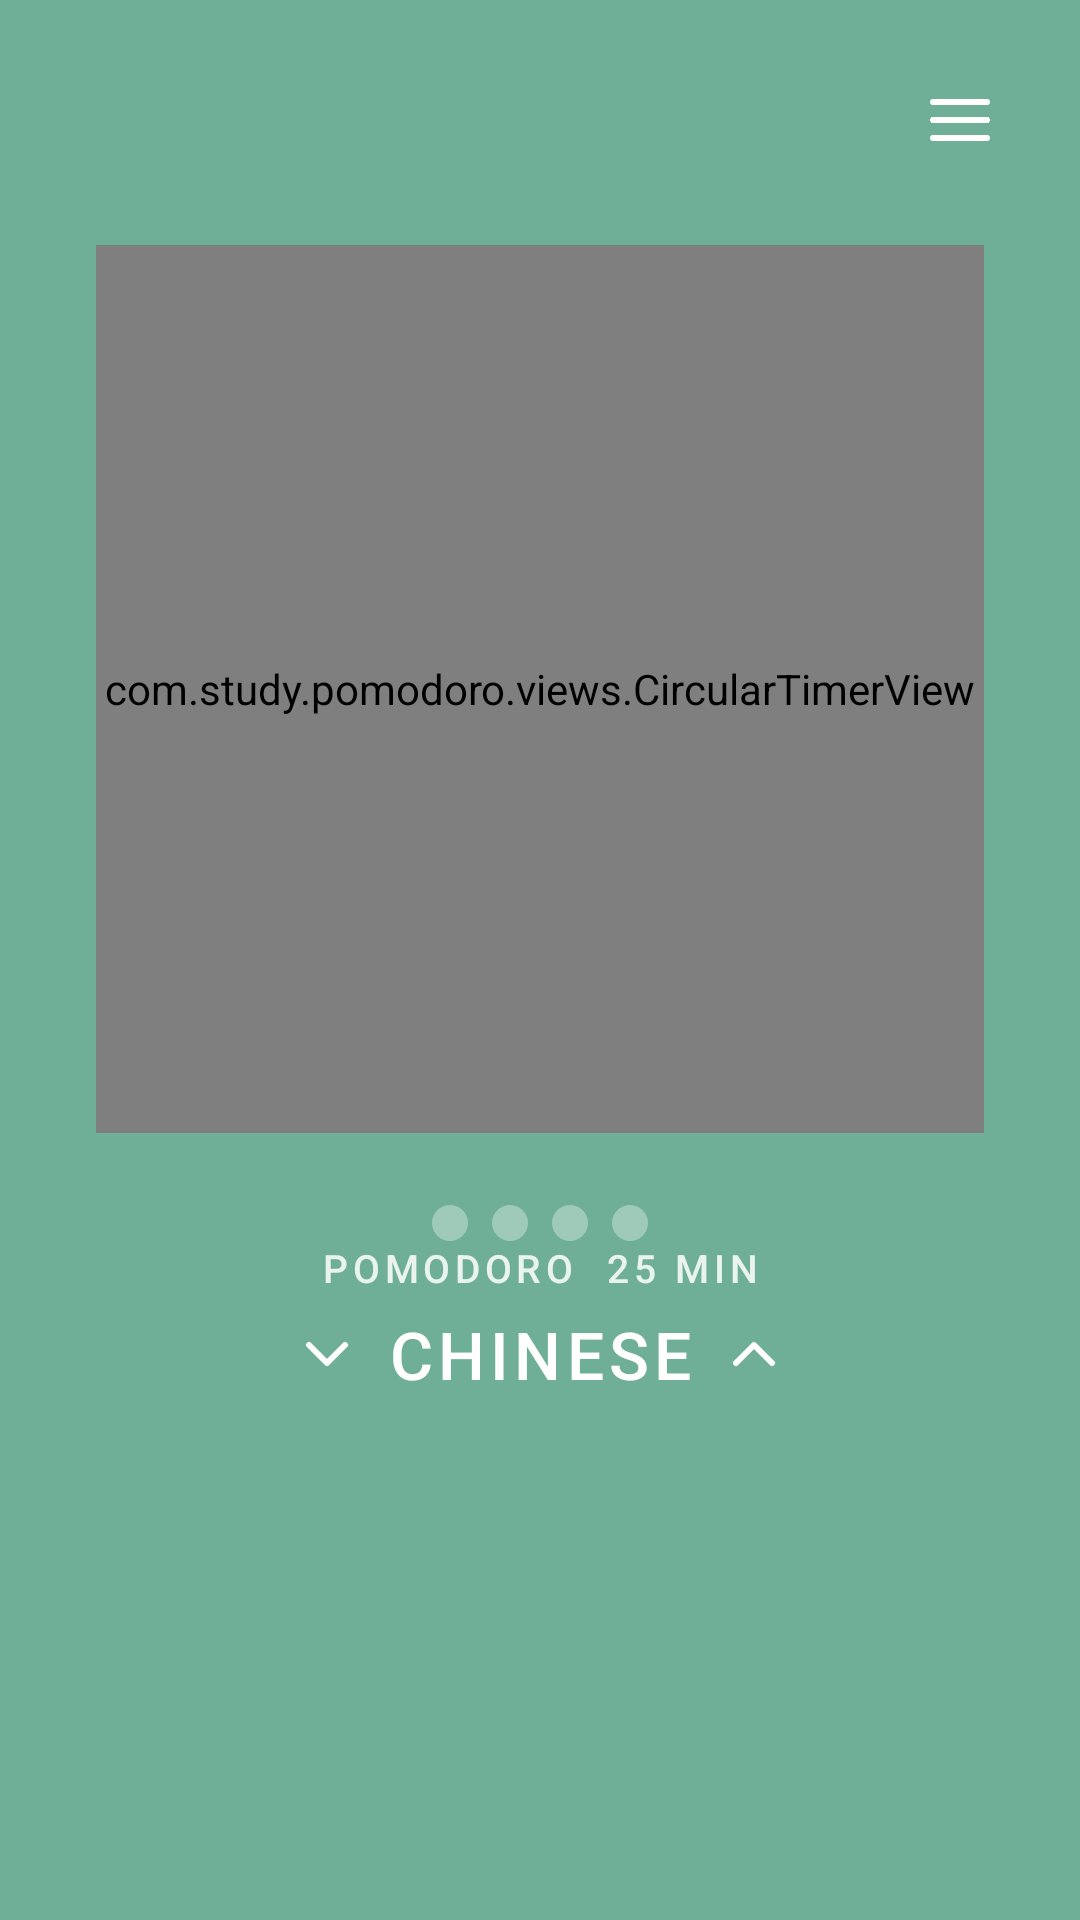

Point at icon controls on the screen. Image size 1080 x 1920, points as [x,y].
Menu: [960,120]
Next subject: [754,1354]
